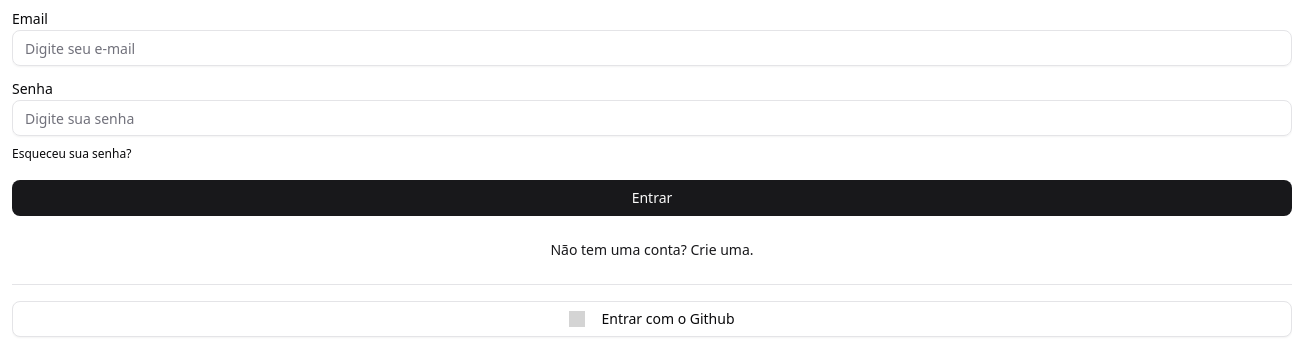
Test: <SignInForm /> › should show loading state during submission
Type "test@example.com" into the field labelled "Email" at [652, 48], box [12, 30, 1292, 66]
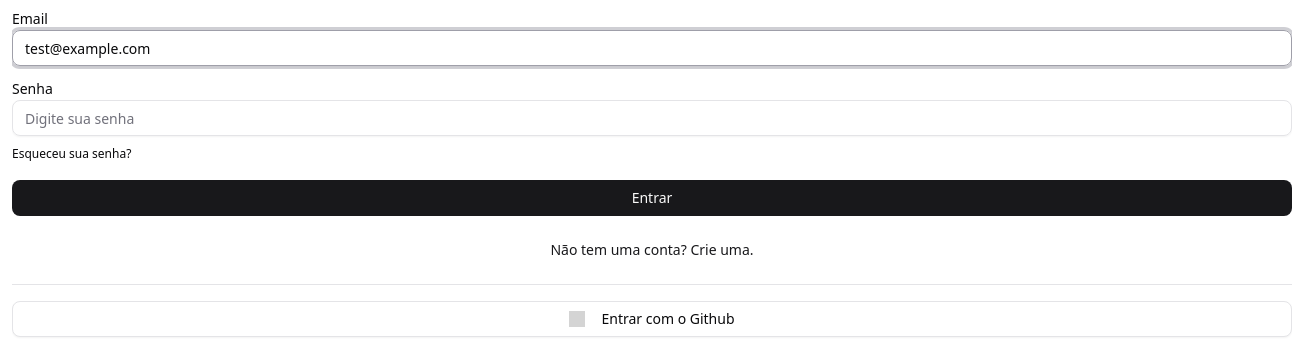
Type "password123" into the password field labelled "Senha" at [652, 118], box [12, 100, 1292, 136]
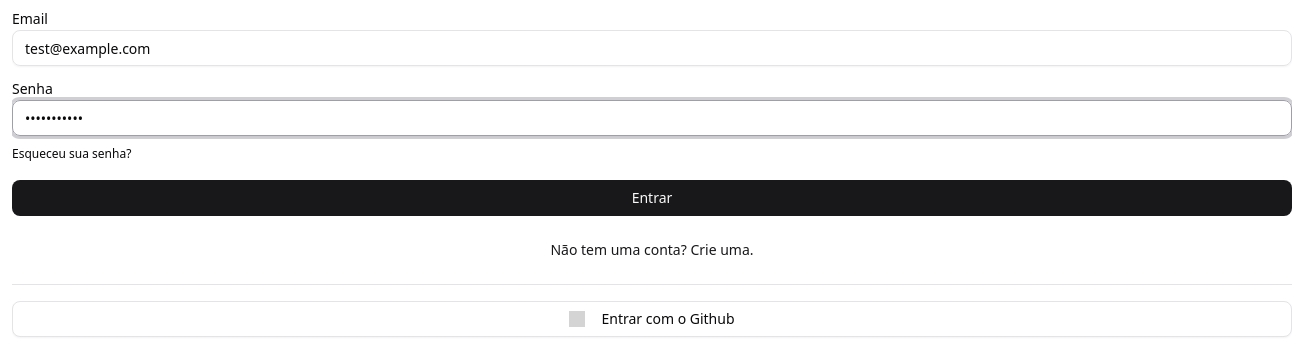
Click the button "Entrar" at [652, 198], box [12, 180, 1292, 216]
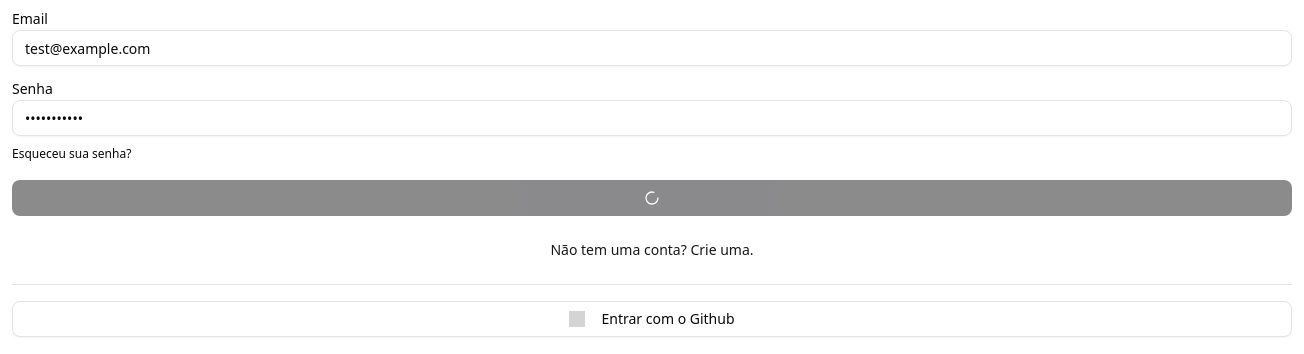
Expected: the button named "Entrar" is disabled, [12, 180, 1292, 216]
